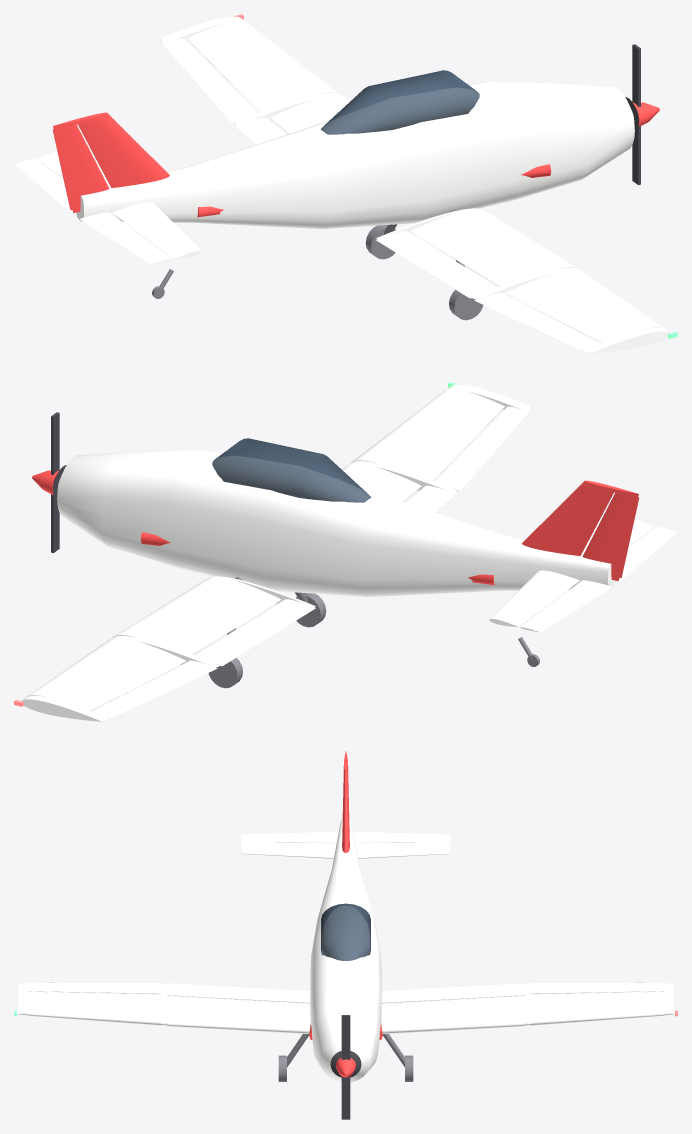
The model's file is extra.glb.
3 renders of one model, top to bottom at view 1: azimuth 30°, elevation 25°; view 2: azimuth 150°, elevation 25°; view 3: azimuth 270°, elevation 25°, orthographic. The views are drawn at different scales.
Visible parts, largest first — view 1: body, flapR, rudder, aileronL, aileronR, elevatorR, gear, elevatorL, prop, flapL; view 2: body, flapL, rudder, aileronR, aileronL, elevatorL, gear, elevatorR, prop, flapR; view 3: body, flapL, flapR, aileronL, aileronR, elevatorL, elevatorR, gear, prop.
Part boxes in pixels (<box>): body: <box>37,14,677,353</box>; flapR: <box>376,231,497,298</box>; rudder: <box>52,125,109,210</box>; aileronL: <box>162,38,257,122</box>; aileronR: <box>474,292,599,350</box>; elevatorR: <box>79,212,171,264</box>; gear: <box>152,209,483,320</box>; elevatorL: <box>14,159,72,213</box>; prop: <box>632,44,640,184</box>; flapL: <box>235,117,286,144</box>; body: <box>14,382,654,721</box>; flapL: <box>194,599,315,666</box>; rudder: <box>582,493,639,578</box>; aileronR: <box>434,406,529,490</box>; aileronL: <box>92,660,217,718</box>; elevatorL: <box>520,580,612,632</box>; gear: <box>208,577,539,688</box>; elevatorR: <box>619,527,677,581</box>; prop: <box>51,412,59,552</box>; flapR: <box>405,485,456,512</box>; body: <box>14,751,677,1082</box>; flapL: <box>381,983,524,1003</box>; flapR: <box>167,983,310,1003</box>; aileronL: <box>530,982,664,993</box>; aileronR: <box>27,982,161,993</box>; elevatorL: <box>353,831,450,842</box>; elevatorR: <box>241,831,338,842</box>; gear: <box>278,1034,413,1081</box>; prop: <box>341,1015,350,1119</box>.
Size of the model in its own units: 8.96 by 3.56 by 11.15.
